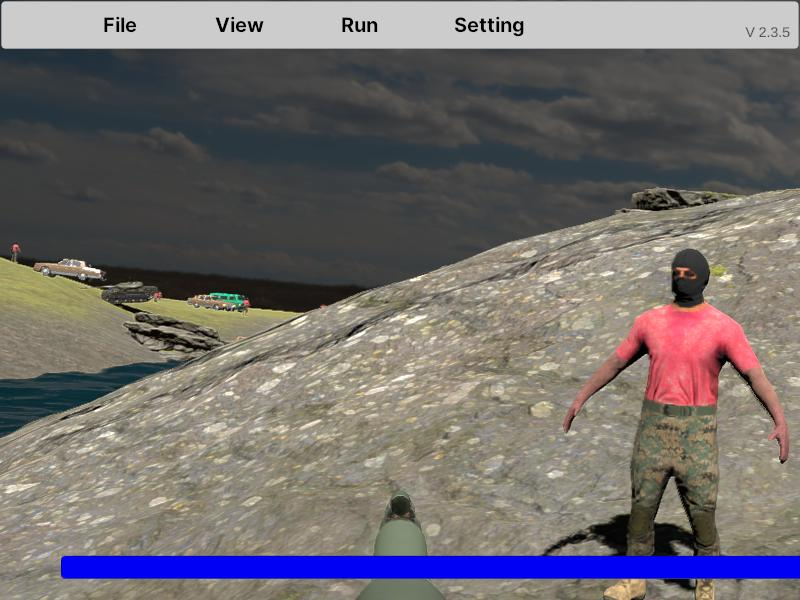Human: (563, 246, 791, 598)
car: (33, 257, 104, 284)
